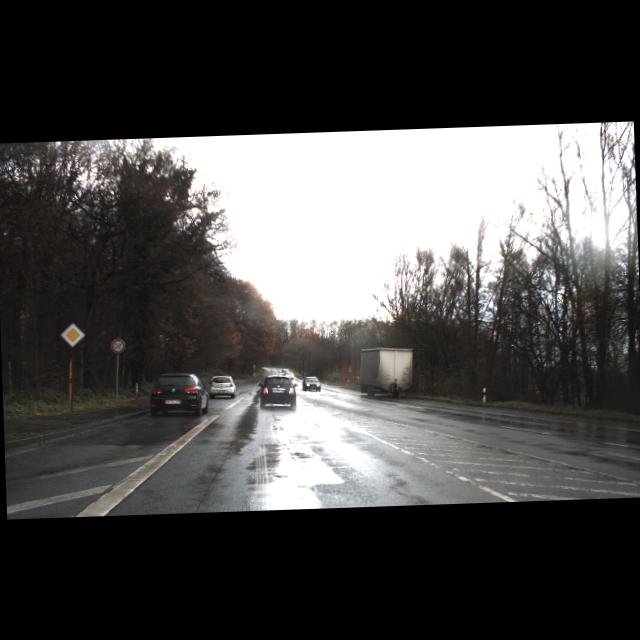other: (59, 321, 86, 348)
prohibitory: (110, 338, 126, 354)
